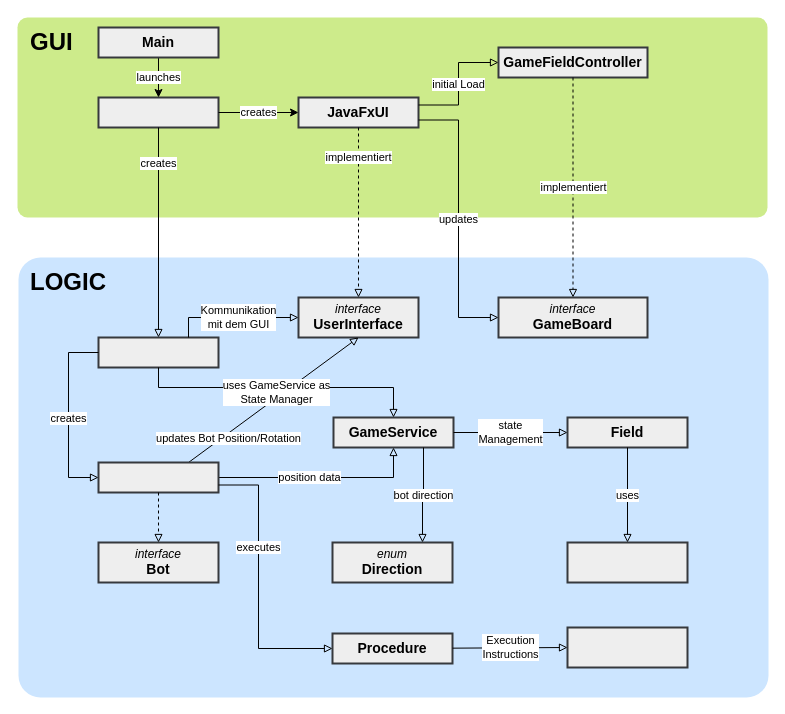
This 785x714 diagram has some shape labels left out. Each missing label, with the box of its shape:
BotImpl: (97, 461, 219, 493)
enum Fieldtype: (566, 541, 688, 583)
enum Instruction: (566, 626, 688, 668)
GameController: (97, 336, 219, 368)
ShellController: (97, 96, 219, 128)
